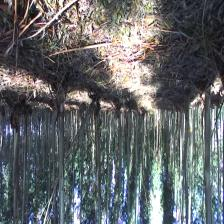trunk: (202, 88, 213, 218), (56, 88, 65, 216), (94, 96, 102, 212)
